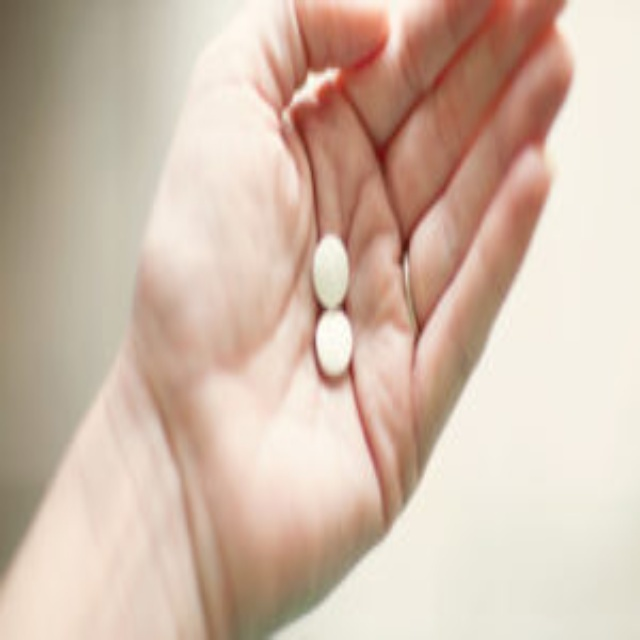pill: (147, 55, 165, 72), (148, 73, 165, 88)
